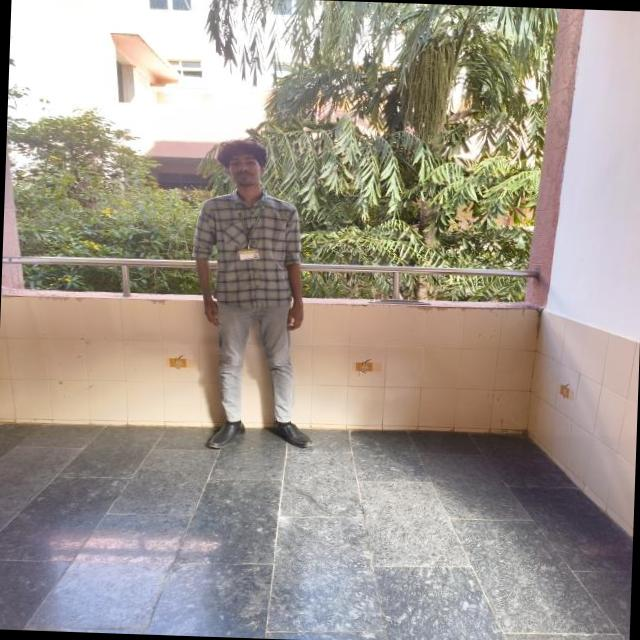id_card: (235, 199, 262, 264)
